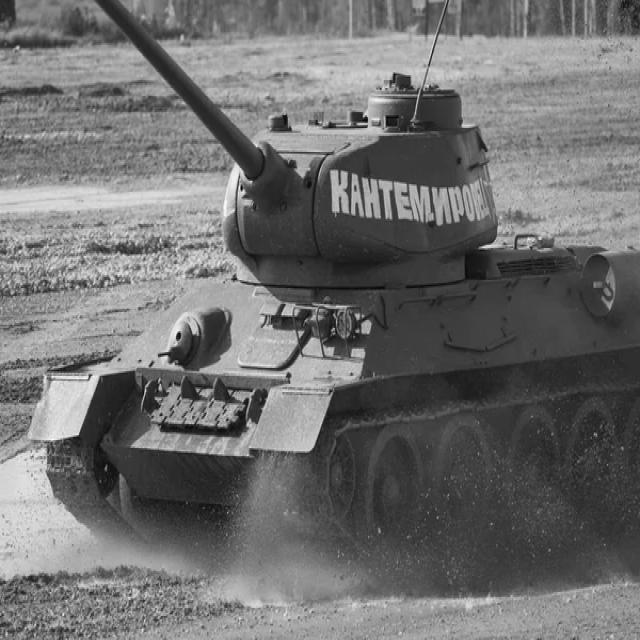Tank: (14, 52, 640, 575)
